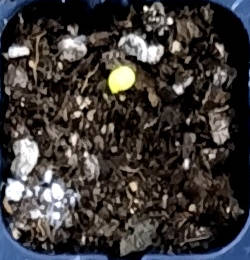pepper seed: (39, 18, 176, 113)
